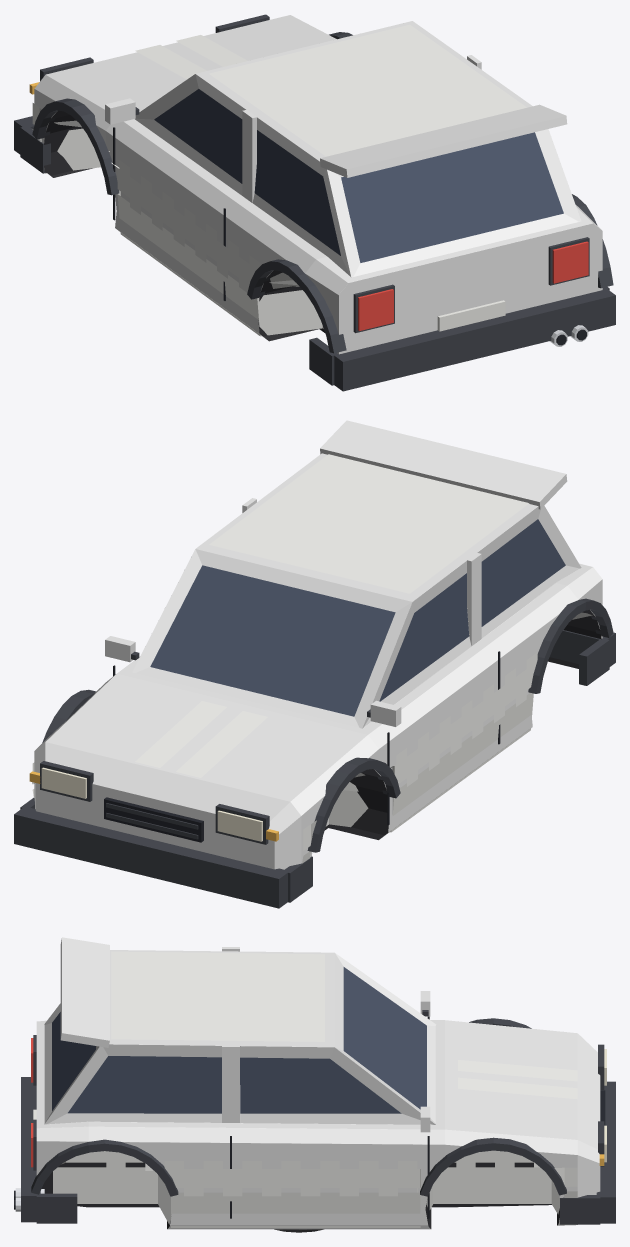
The model's file is pikku_turbo.glb.
3 renders of one model, top to bottom at view 1: azimuth 30°, elevation 25°; view 2: azimuth 150°, elevation 25°; view 3: azimuth 270°, elevation 25°, orthographic. The views are drawn at different scales.
Visible parts, largest first — view 1: Body, Details, Pattern_TWO_TONE, Pattern_STRIPE, Pattern_CHECKER, Pattern_SIDE_BAND; view 2: Body, Details, Pattern_TWO_TONE, Pattern_STRIPE, Pattern_CHECKER, Pattern_SIDE_BAND; view 3: Body, Pattern_TWO_TONE, Details, Pattern_STRIPE, Pattern_CHECKER, Pattern_SIDE_BAND.
Boxes of the visible parts, box(x1,y1,x2,y2) form: Body: box(34, 15, 602, 354); Details: box(14, 14, 615, 391); Pattern_TWO_TONE: box(32, 24, 526, 336); Pattern_STRIPE: box(135, 35, 445, 138); Pattern_CHECKER: box(54, 120, 299, 292); Pattern_SIDE_BAND: box(32, 103, 298, 288); Body: box(34, 453, 602, 869); Details: box(14, 420, 615, 908); Pattern_TWO_TONE: box(32, 454, 533, 863); Pattern_STRIPE: box(135, 482, 451, 777); Pattern_CHECKER: box(343, 652, 537, 791); Pattern_SIDE_BAND: box(32, 612, 592, 850); Body: box(36, 947, 600, 1229); Pattern_TWO_TONE: box(53, 951, 577, 1227); Details: box(14, 937, 615, 1224); Pattern_STRIPE: box(114, 981, 577, 1099); Pattern_CHECKER: box(88, 1150, 539, 1196); Pattern_SIDE_BAND: box(61, 1150, 577, 1187).
Bounding box in the file's own units: 1.85 × 1.58 × 3.72.
